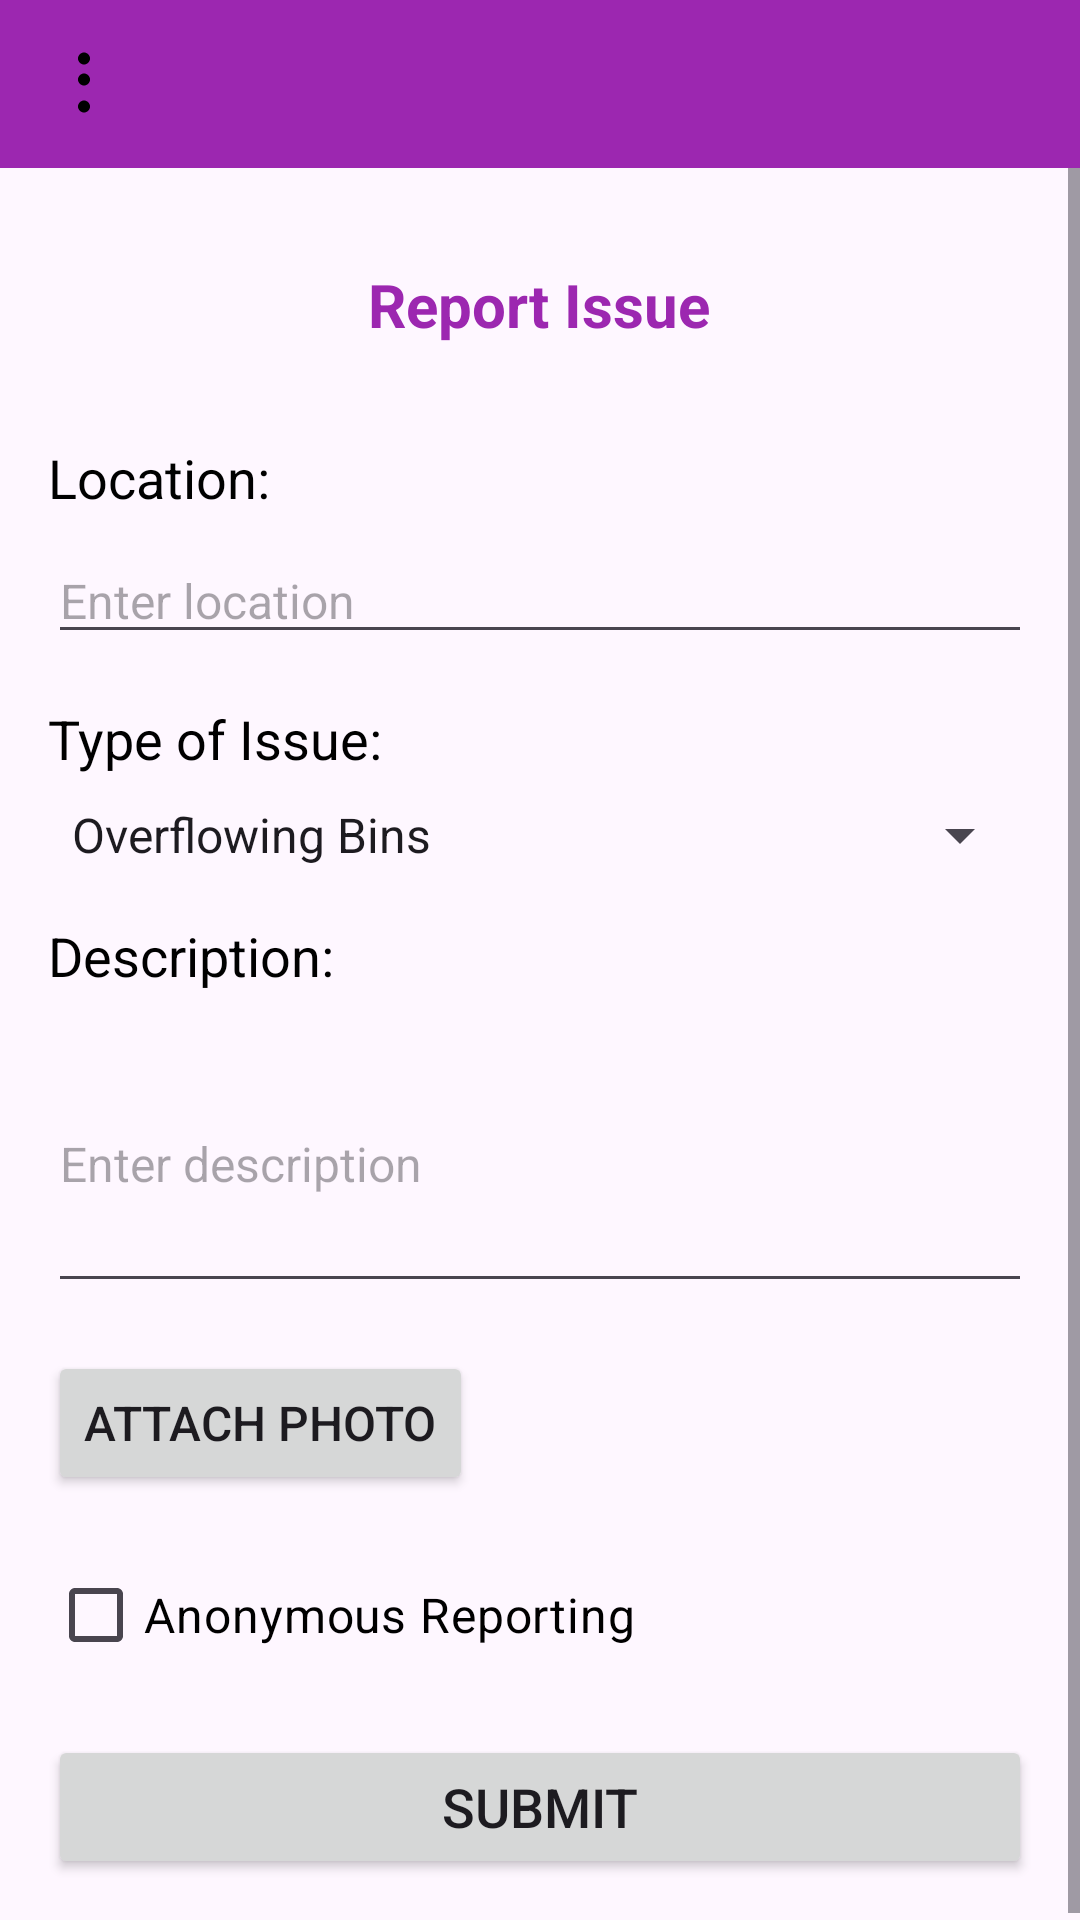

Named icons in this screenshot (1080px x 1920px) and their centers, (x=x, y=y):
Three Dot Menu: (x=84, y=82)
